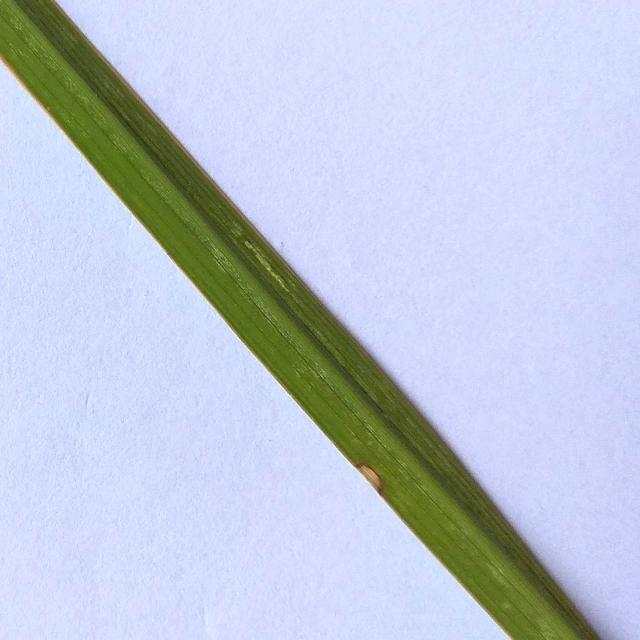Blast: (361, 467, 384, 491)
